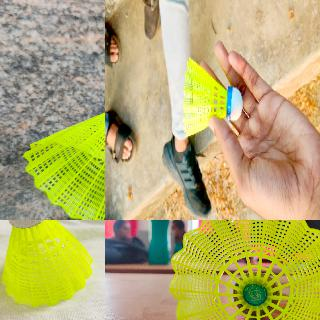shuttlecock: (170, 220, 319, 319), (24, 83, 104, 219), (0, 220, 93, 307), (182, 58, 243, 134)
